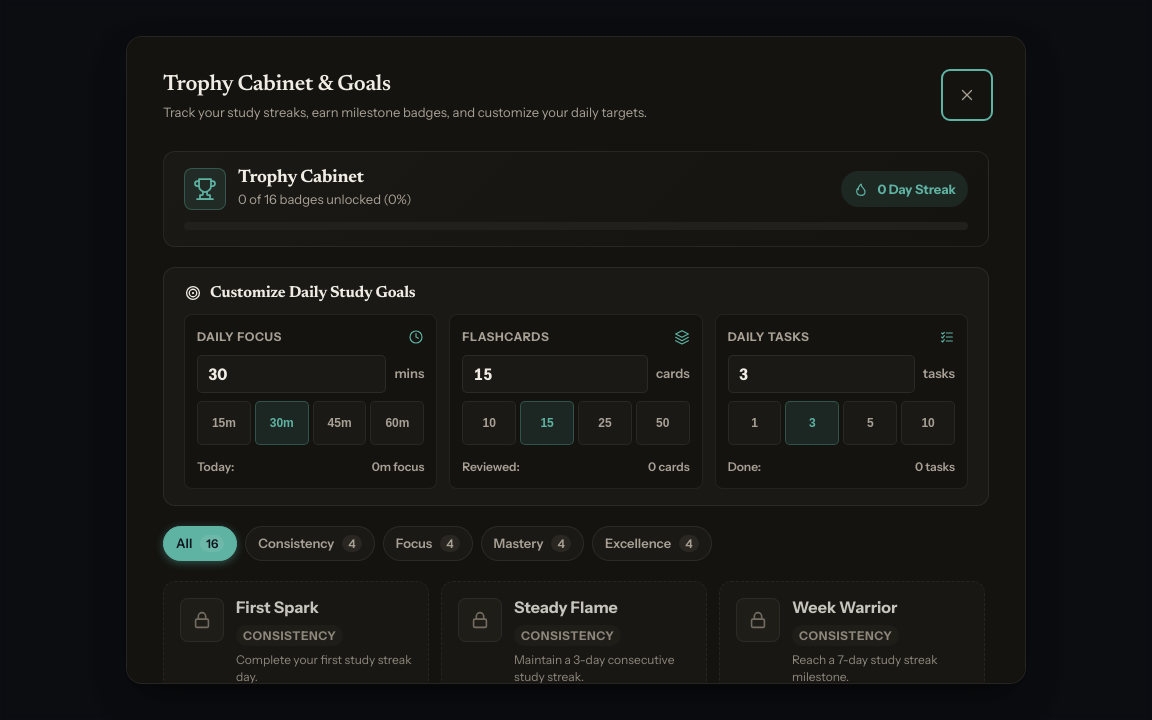
Test: AchievementsModal › filters badge cards by category when clicking category pills
Expected: the heading "First Spark" is shown, 236,598 -> 319,617
Note: Click "Focus" tab
Step 1. Click the tab "Focus 4" → point(428, 543), box 383,526 -> 473,561
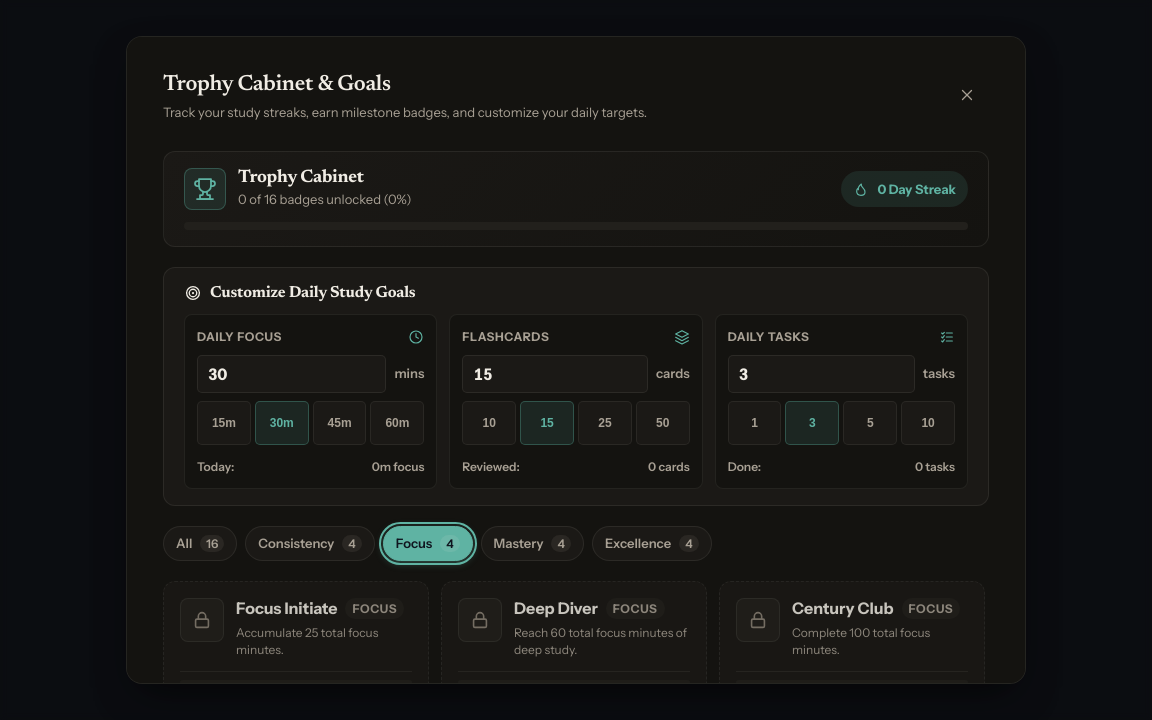
Expected: the heading "Focus Initiate" is shown, 236,599 -> 338,618
Expected: the heading "First Spark" is gone
